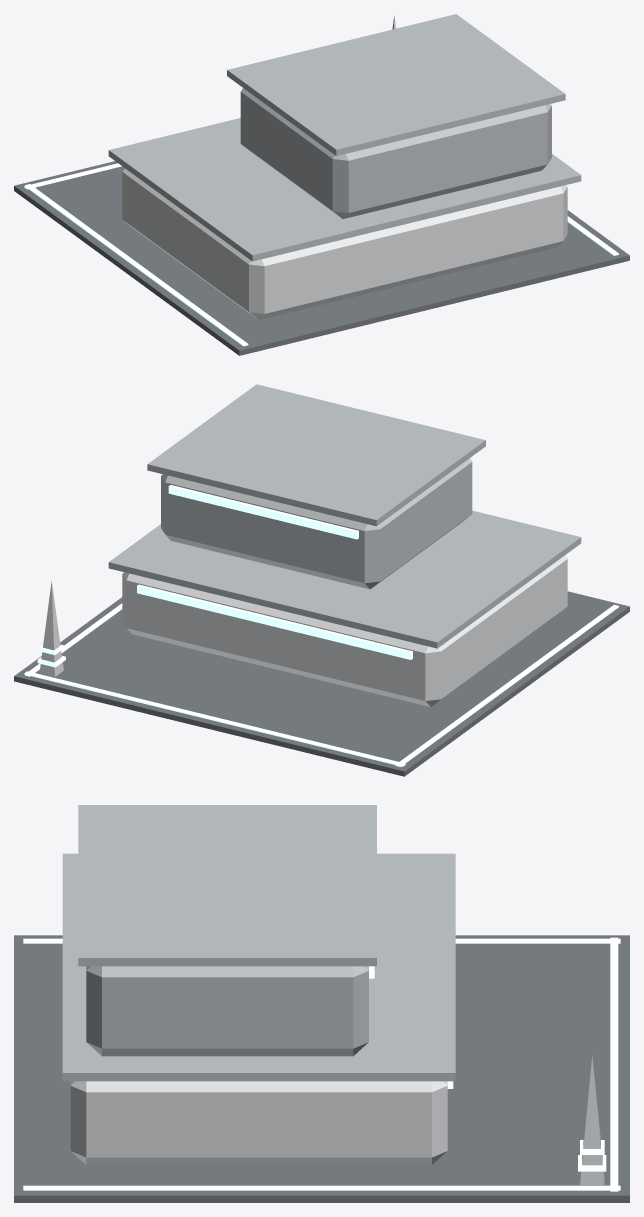
File: zone_low_3_t2.glb
3 renders of one model, top to bottom at view 1: azimuth 30°, elevation 25°; view 2: azimuth 150°, elevation 25°; view 3: azimuth 270°, elevation 25°, orthographic. The views are drawn at different scales.
Parts seen in each view (by area): view 1: zone_low_3_t2, detail; view 2: zone_low_3_t2, detail; view 3: zone_low_3_t2, detail.
Boxes of the visible parts, left/top/right/bottom form: zone_low_3_t2: left=14, top=14, right=629, bottom=355; detail: left=24, top=15, right=618, bottom=346; zone_low_3_t2: left=14, top=384, right=629, bottom=776; detail: left=24, top=581, right=618, bottom=766; zone_low_3_t2: left=14, top=805, right=629, bottom=1202; detail: left=23, top=937, right=620, bottom=1191.
Bounding box in the file's own units: 19.6 × 7.64 × 19.6.
